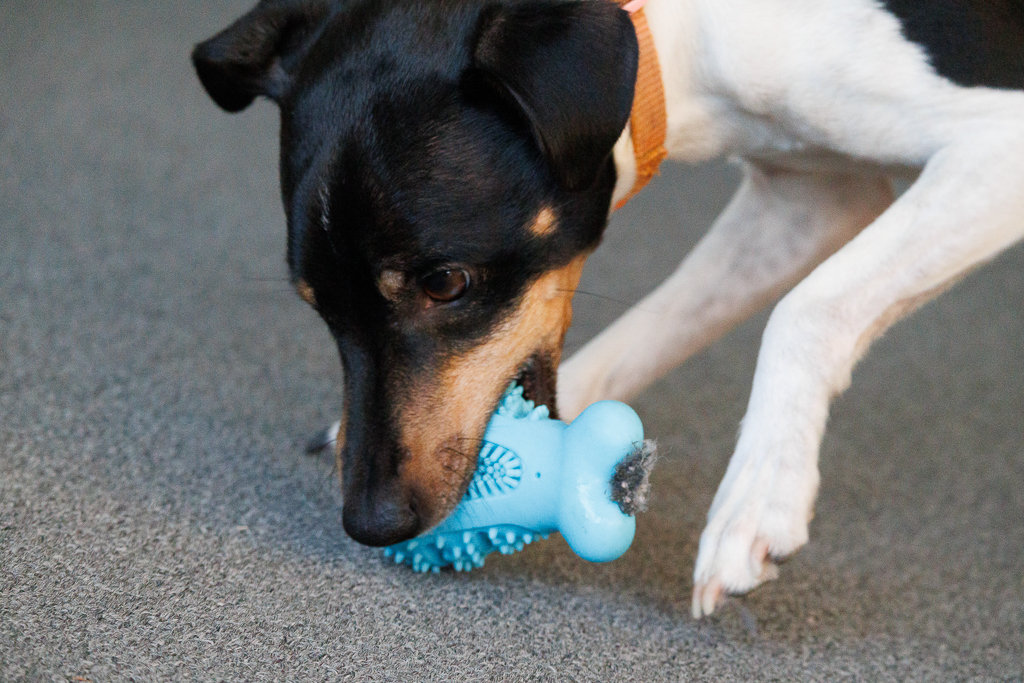Dog: (181, 0, 1024, 637)
